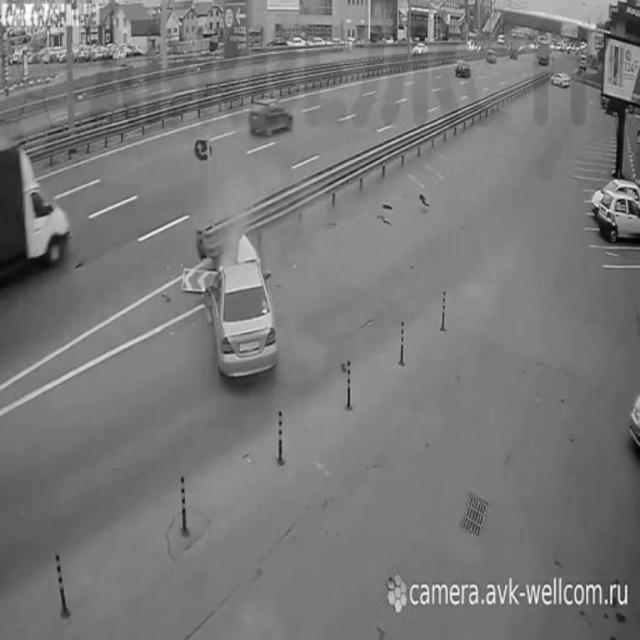vehicle: (0, 138, 78, 280), (210, 259, 282, 383), (598, 189, 640, 243), (247, 97, 293, 142), (548, 69, 574, 93), (537, 34, 553, 68), (453, 55, 473, 81), (484, 40, 499, 68), (411, 42, 433, 56)
